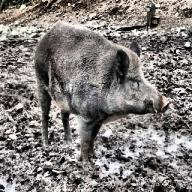boar: (33, 19, 169, 167)
